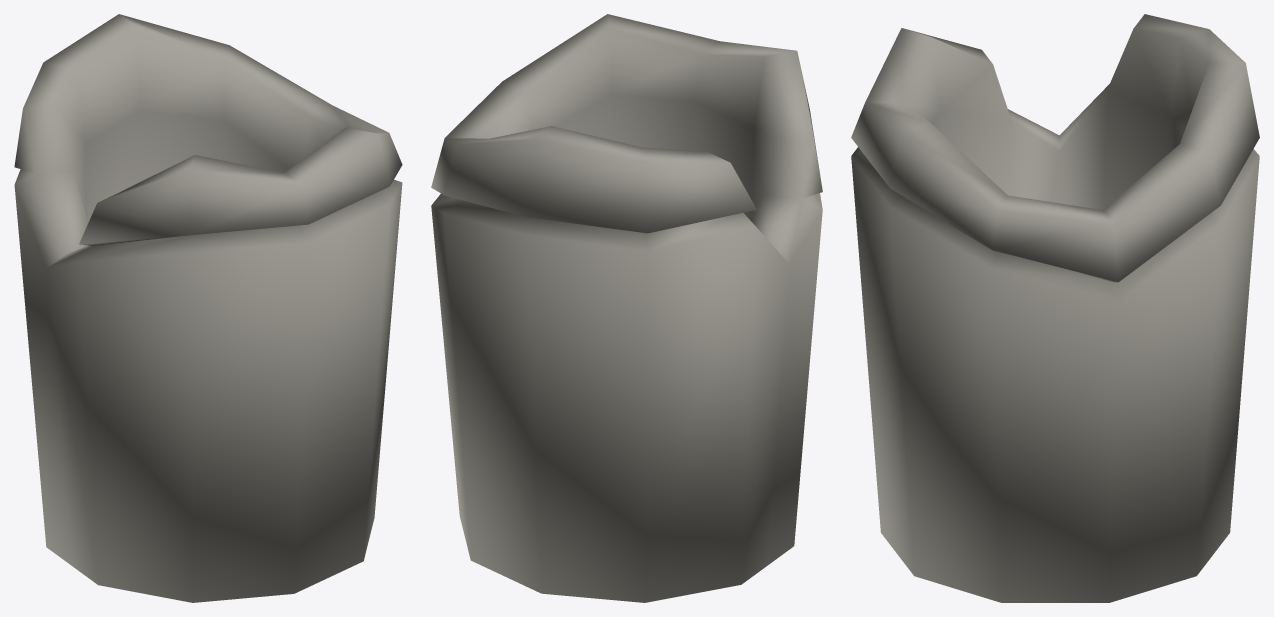
Rendered from rpgpp_av_vase_01a.gltf.
3 views of the same model, side by side, from view 1: azimuth 30°, elevation 25°; view 2: azimuth 150°, elevation 25°; view 3: azimuth 270°, elevation 25° (orthographic). The views are drawn at different scales.
Parts seen in each view (by area): view 1: rpgpp_av_vase_01a; view 2: rpgpp_av_vase_01a; view 3: rpgpp_av_vase_01a.
Part boxes in pixels (x1=…): rpgpp_av_vase_01a: x1=14, y1=14, x2=402, y2=602; rpgpp_av_vase_01a: x1=431, y1=14, x2=822, y2=602; rpgpp_av_vase_01a: x1=851, y1=14, x2=1259, y2=602.
Size of the model in its own units: 0.00374 by 0.00499 by 0.00393.
1 material, 1 textured.
